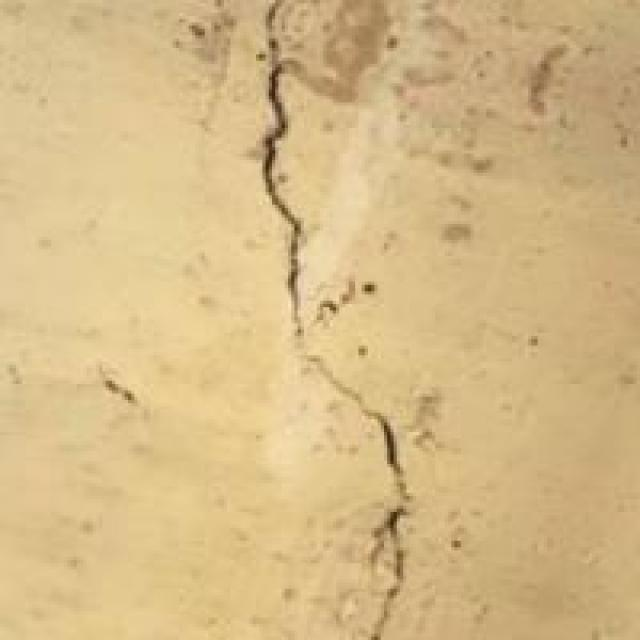crack: (186, 3, 474, 621)
